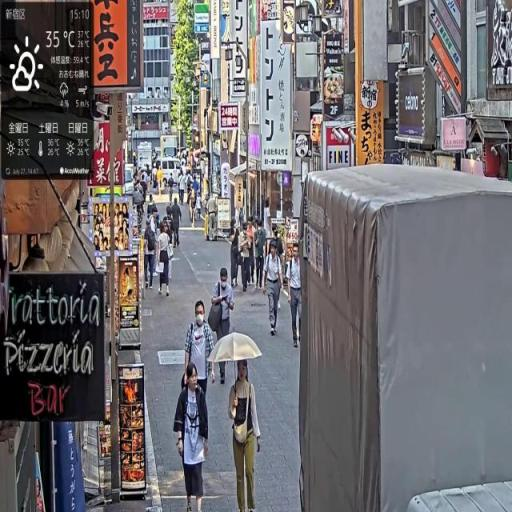person: (175, 365, 212, 512), (228, 361, 264, 512), (183, 299, 217, 421), (210, 266, 236, 391), (264, 239, 284, 338), (287, 245, 304, 349), (156, 221, 174, 299), (144, 220, 158, 292), (256, 220, 269, 291), (170, 199, 183, 250)
